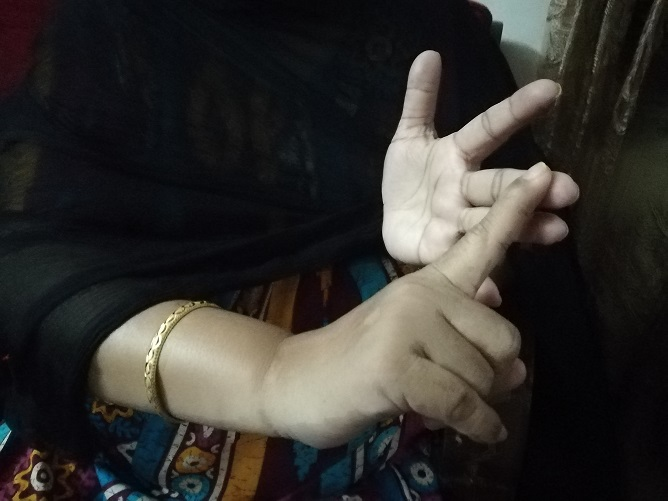u: (395, 48, 561, 447)
